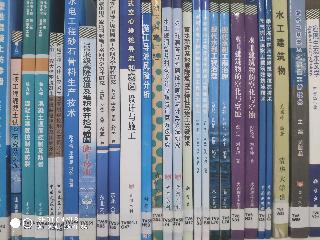book-spine: (119, 2, 140, 240), (290, 2, 308, 235), (79, 28, 95, 239), (273, 2, 287, 236), (36, 2, 49, 240), (307, 11, 320, 235), (23, 1, 35, 240), (66, 1, 78, 238), (140, 4, 151, 238), (245, 7, 256, 236), (96, 0, 106, 238), (152, 2, 162, 238), (233, 6, 243, 237), (108, 2, 117, 238), (163, 3, 172, 239), (183, 3, 192, 239), (211, 4, 220, 239), (221, 5, 230, 239), (11, 32, 21, 239), (257, 1, 265, 240), (173, 3, 181, 239), (194, 2, 201, 239), (202, 3, 209, 238), (266, 2, 271, 238), (50, 34, 55, 240), (57, 35, 62, 239)
